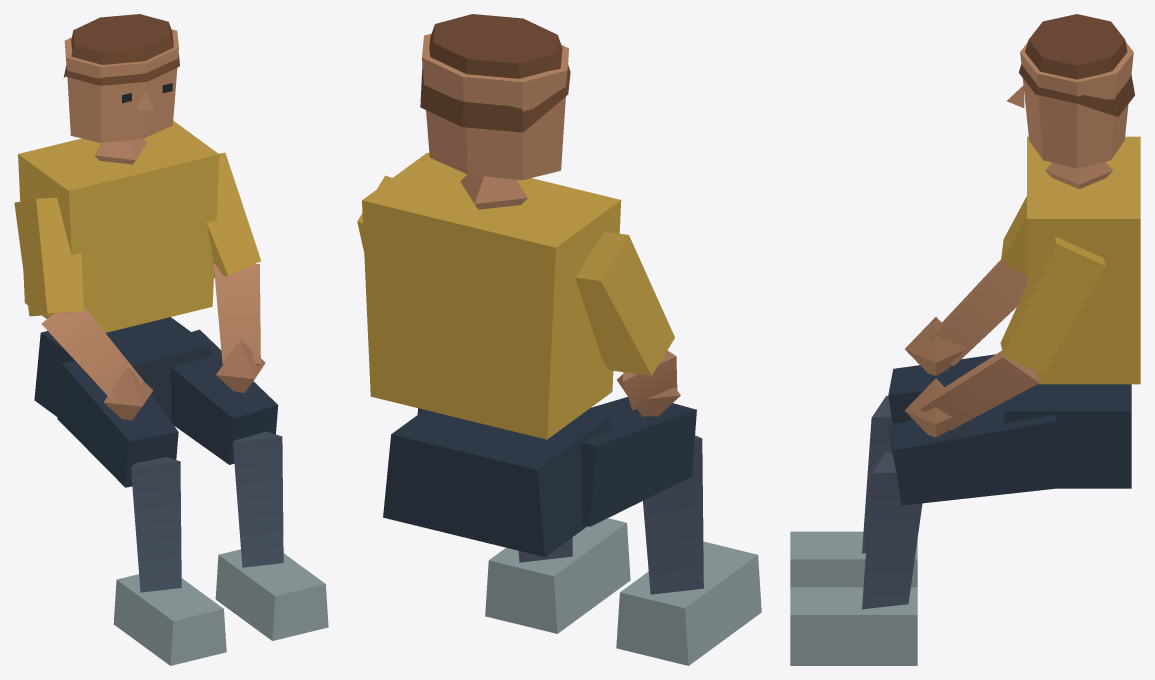
The model's file is fan-03.glb.
3 renders of one model, left to right at view 1: azimuth 30°, elevation 25°; view 2: azimuth 150°, elevation 25°; view 3: azimuth 270°, elevation 25°, orthographic. The views are drawn at different scales.
Parts seen in each view (by area): view 1: fan-03; view 2: fan-03; view 3: fan-03.
Boxes of the visible parts, <box> form: fan-03: <box>14,14,328,665</box>; fan-03: <box>357,14,761,665</box>; fan-03: <box>790,14,1140,665</box>.
Size of the model in its own units: 0.619 by 1.41 by 0.77.
